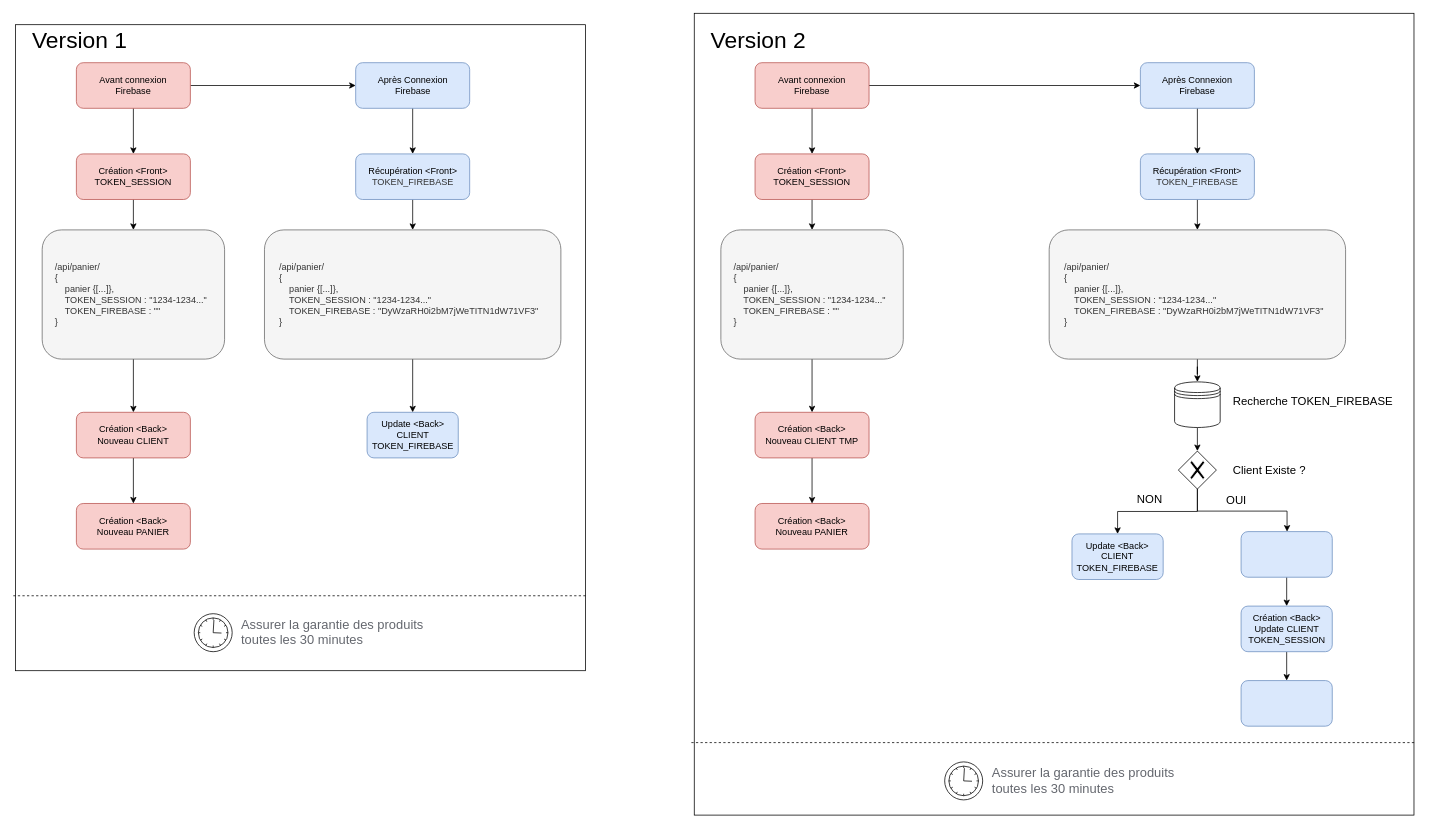
The diagram is 1430 pixels wide and 828 high, and some of its shapes have lost their labels. The shapes that lost their labels are listed below. From the top down, each one's centre as x and y in pixels, then its label:
At point (1286, 554): "Update <Back> PANIER USER_ID".
At point (1286, 703): "Delete <Back> CLIENT TMP".
